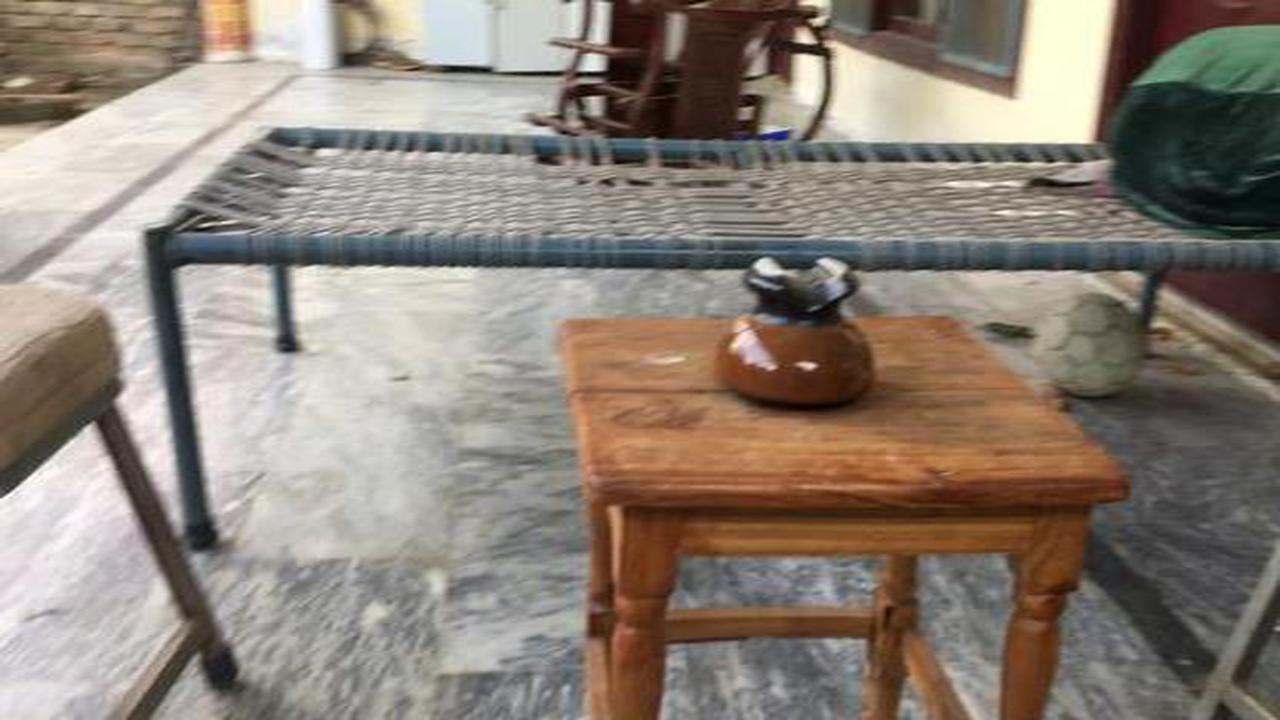insulator_pin: (702, 241, 896, 414)
